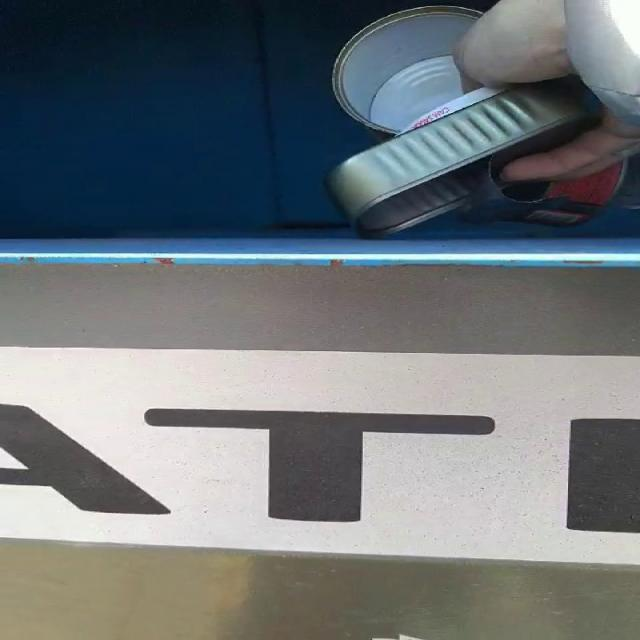bin: (1, 0, 640, 408), (1, 540, 640, 640)
metal: (327, 6, 627, 237)
